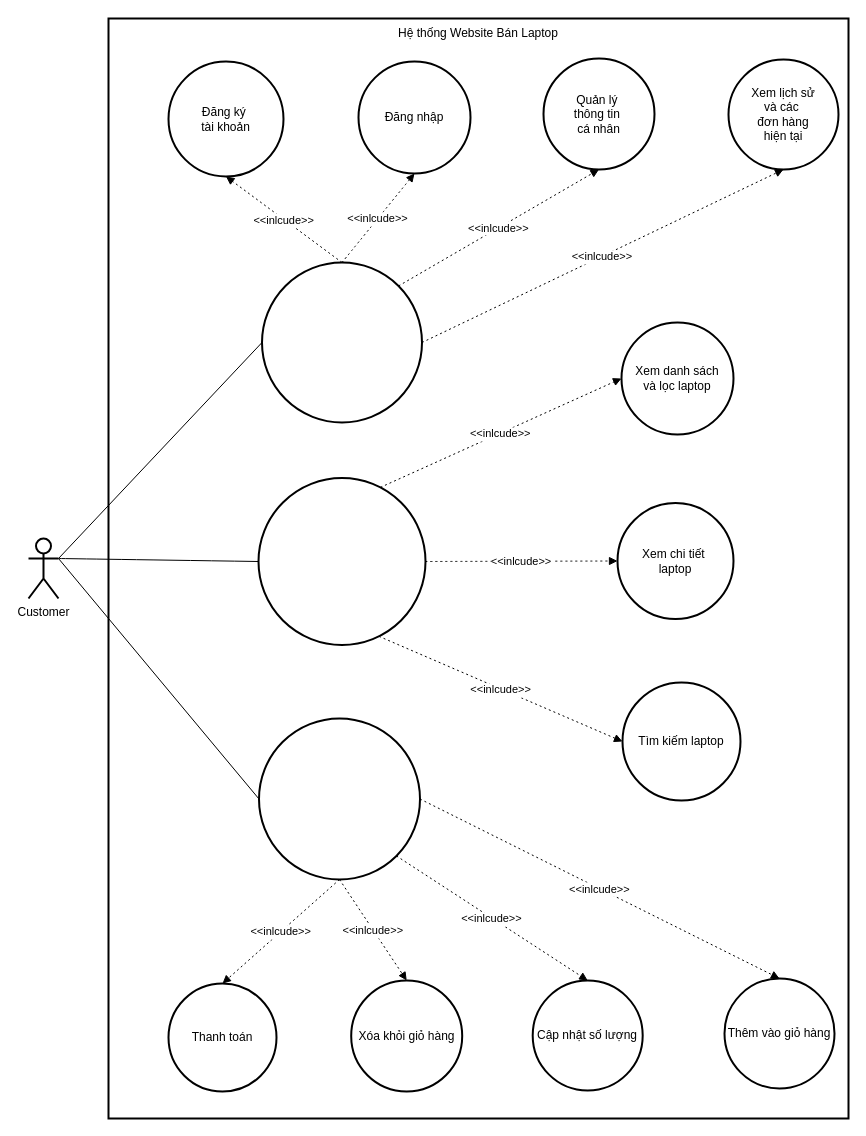
The diagram is 866 pixels wide and 1136 high, and some of its shapes have lost their labels. Each missing label, with the centre of its shape:
Khám phá sản phẩm: the point at 341,561
Quản lý giỏ hàng: the point at 339,798
Quản lý tài khoản: the point at 341,342
